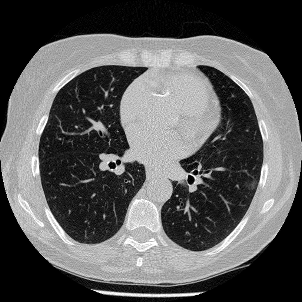nodule: (246, 178, 258, 190)
